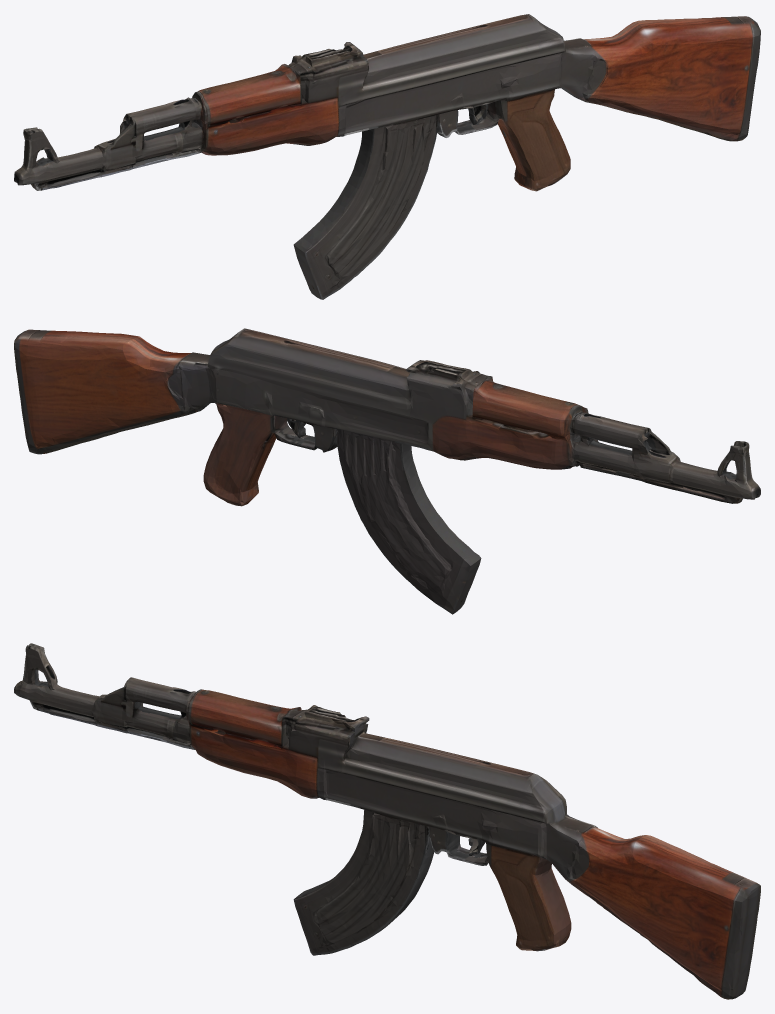
3 views of the same model, one above another, from view 1: azimuth 30°, elevation 25°; view 2: azimuth 150°, elevation 25°; view 3: azimuth 330°, elevation 25° (orthographic).
Parts seen in each view (by area): view 1: temp; view 2: temp; view 3: temp.
Boxes of the visible parts, box(x1,y1,x2,y2) form: temp: box(14, 14, 760, 299); temp: box(14, 328, 760, 614); temp: box(14, 643, 760, 999).
Bounding box in the file's own units: 199 × 62.28 × 10.78.
1 material, 1 textured.
